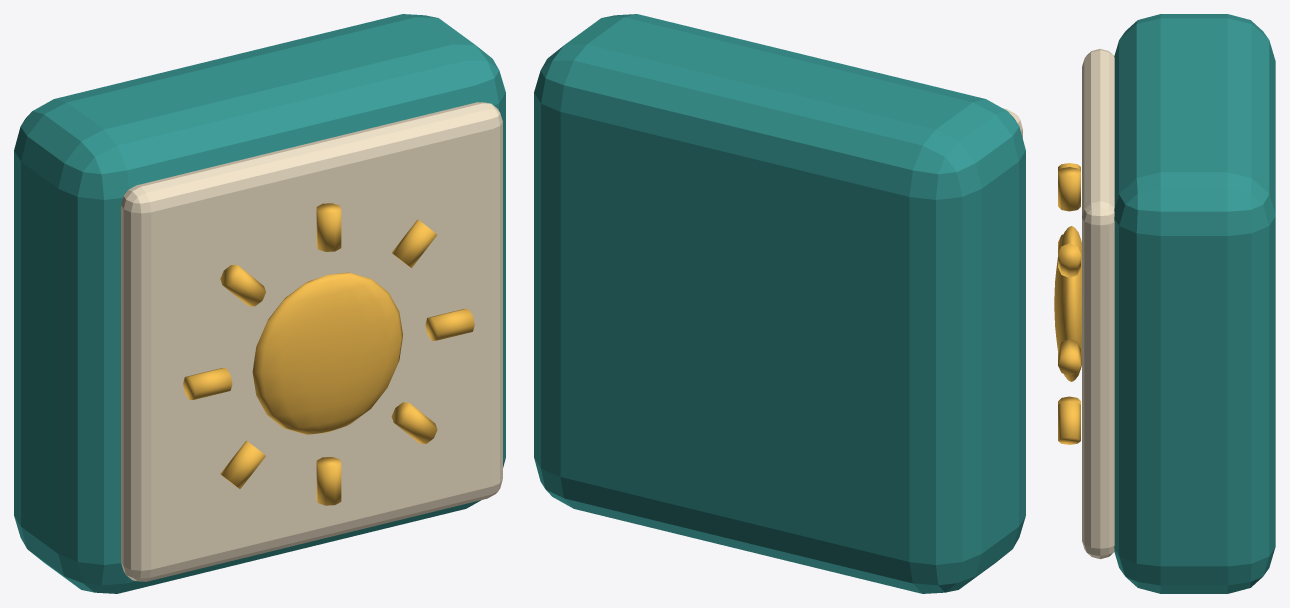
File: module-sun.glb
The picture shows the model from 3 angles, left to right: view 1: azimuth 30°, elevation 25°; view 2: azimuth 150°, elevation 25°; view 3: azimuth 270°, elevation 25°; orthographic projection. The views are drawn at different scales.
Parts seen in each view (by area): view 1: GEO-module-sun; view 2: GEO-module-sun; view 3: GEO-module-sun.
Part boxes in pixels (x1,y1,x2,y2): GEO-module-sun: [14, 14, 505, 593]; GEO-module-sun: [534, 14, 1025, 593]; GEO-module-sun: [1054, 14, 1275, 593].
Size of the model in its own units: 0.24 by 0.24 by 0.1155.
